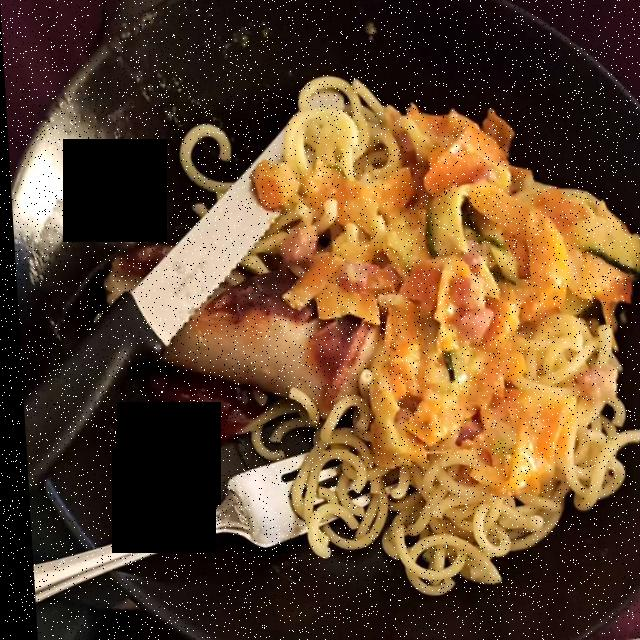mixed-vegetables: (255, 115, 623, 477)
veal-sausage: (104, 243, 319, 392)
